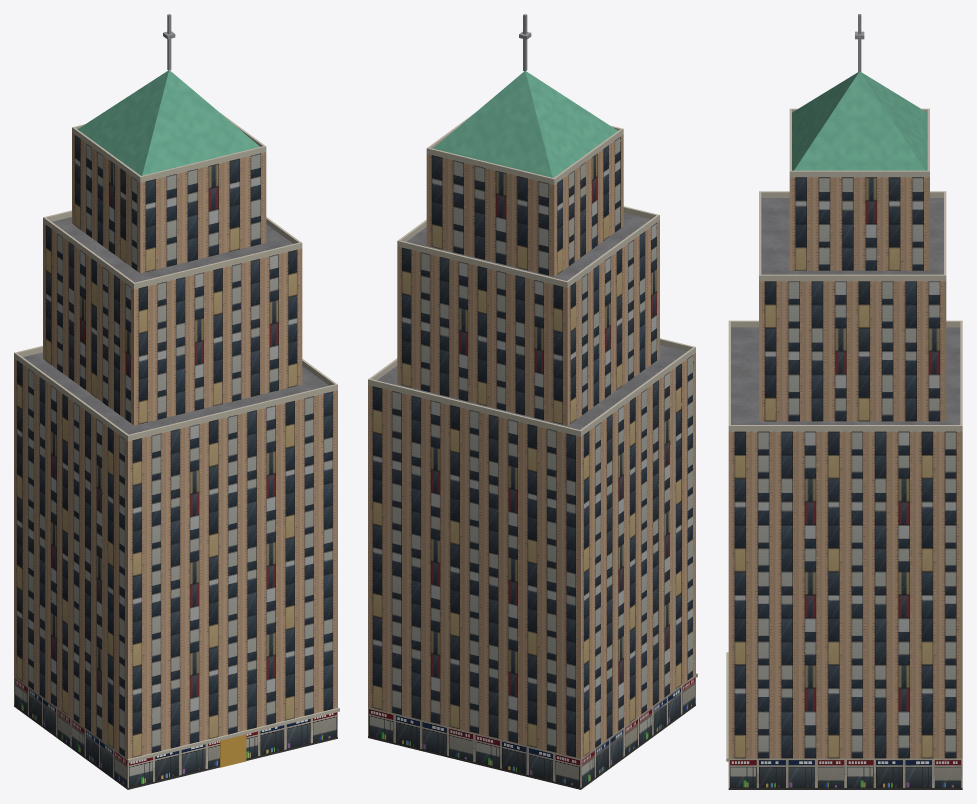
The model's file is 040_deco_brick_midrise.glb.
The picture shows the model from 3 angles, left to right: view 1: azimuth 30°, elevation 25°; view 2: azimuth 150°, elevation 25°; view 3: azimuth 270°, elevation 25°; orthographic projection. The views are drawn at different scales.
Visible parts, largest first — view 1: 040_deco_brick_midrise; view 2: 040_deco_brick_midrise; view 3: 040_deco_brick_midrise.
Part boxes in pixels (box(x1,y1,x2,y2)): 040_deco_brick_midrise: box(14, 14, 339, 789); 040_deco_brick_midrise: box(368, 14, 697, 789); 040_deco_brick_midrise: box(726, 14, 962, 789).
Bounding box in the file's own units: 32.2 × 102 × 30.3.
7 materials, 4 textured.
